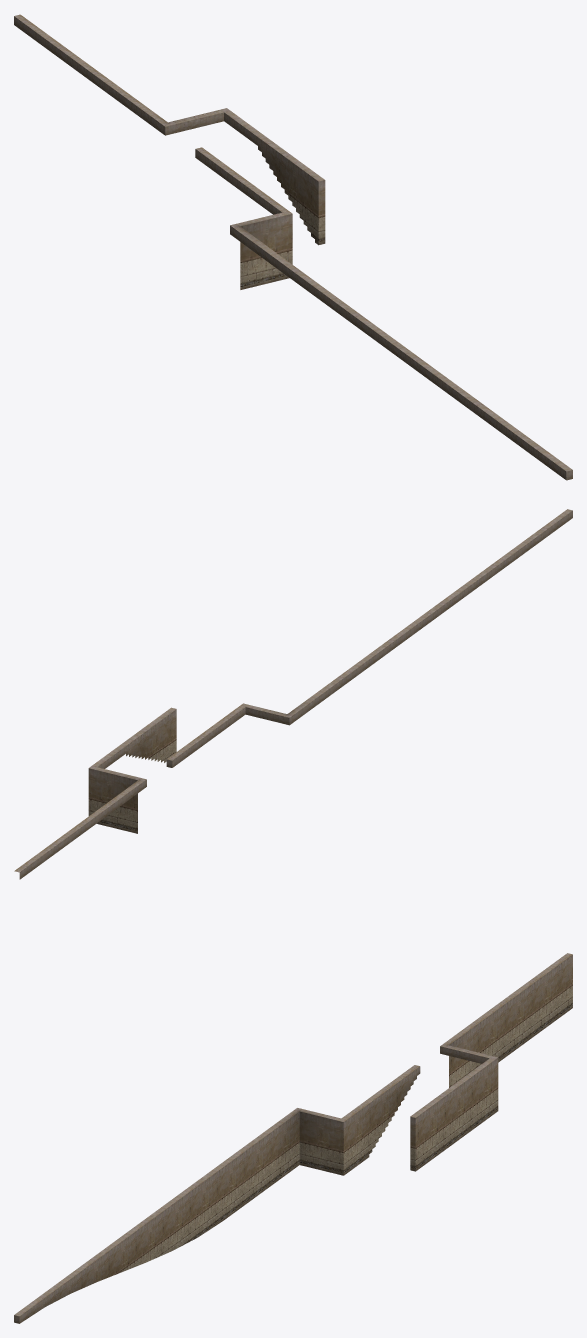
Rendered from M2_Zone2_Wall1.glb.
3 views of the same model, one above another, from view 1: azimuth 30°, elevation 25°; view 2: azimuth 150°, elevation 25°; view 3: azimuth 330°, elevation 25° (orthographic). The views are drawn at different scales.
Parts seen in each view (by area): view 1: M2_ZONE2_WALL1; view 2: M2_ZONE2_WALL1; view 3: M2_ZONE2_WALL1.
Boxes of the visible parts, left/top/right/bottom form: M2_ZONE2_WALL1: left=14, top=14, right=572, bottom=480; M2_ZONE2_WALL1: left=14, top=509, right=572, bottom=879; M2_ZONE2_WALL1: left=14, top=953, right=572, bottom=1323.
Size of the model in its own units: 9 by 4.65 by 80.
1 material, 1 textured.
